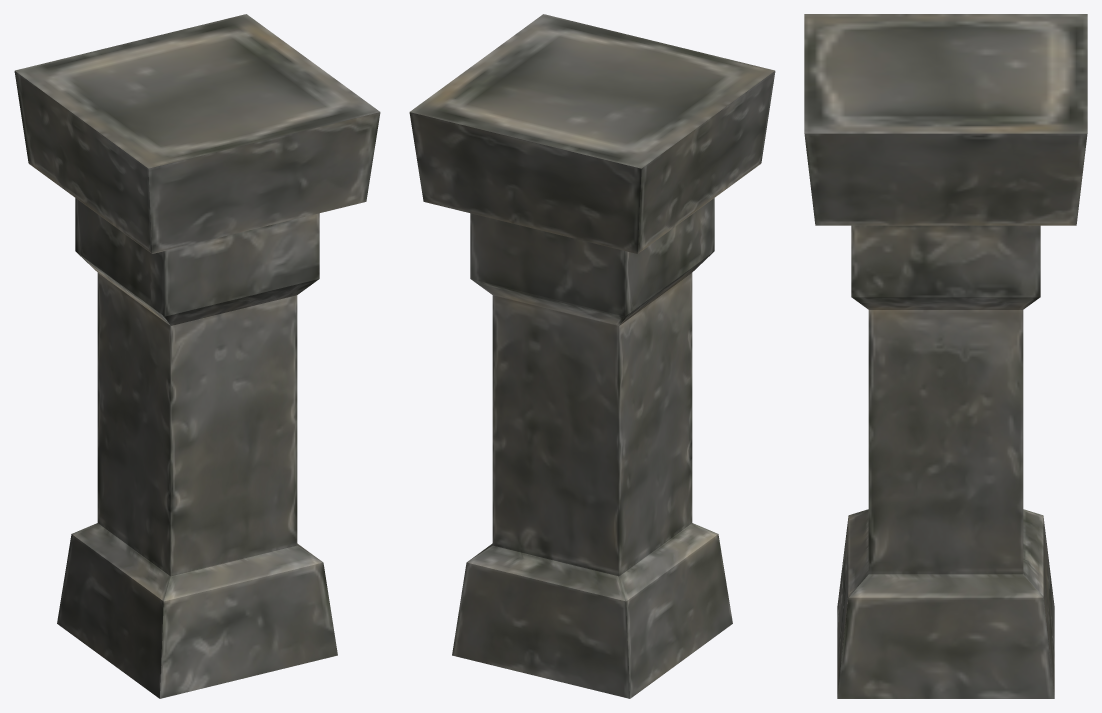
File: Pillar_001.obj
3 renders of one model, left to right at view 1: azimuth 30°, elevation 25°; view 2: azimuth 150°, elevation 25°; view 3: azimuth 270°, elevation 25°, orthographic. The views are drawn at different scales.
Parts seen in each view (by area): view 1: Pillar_001; view 2: Pillar_001; view 3: Pillar_001.
Boxes of the visible parts, <box> form: Pillar_001: <box>14,14,380,698</box>; Pillar_001: <box>409,14,775,698</box>; Pillar_001: <box>804,14,1087,698</box>.
Size of the model in its own units: 2.66 by 6 by 2.66.
